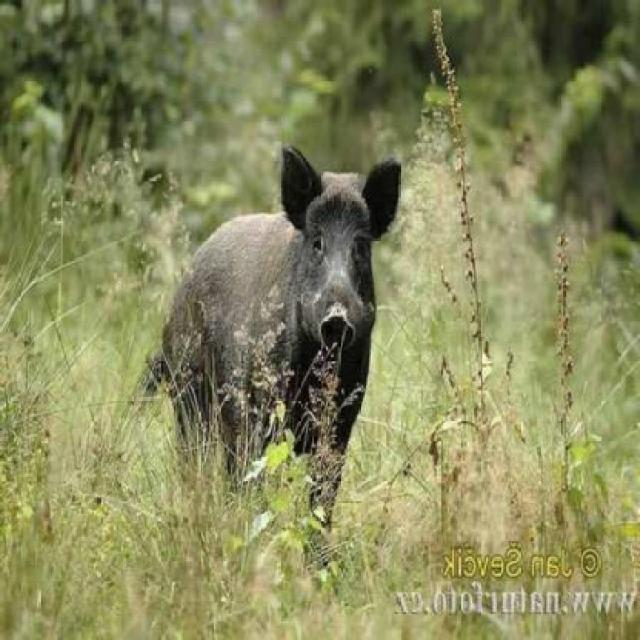Boar: (127, 109, 415, 545)
